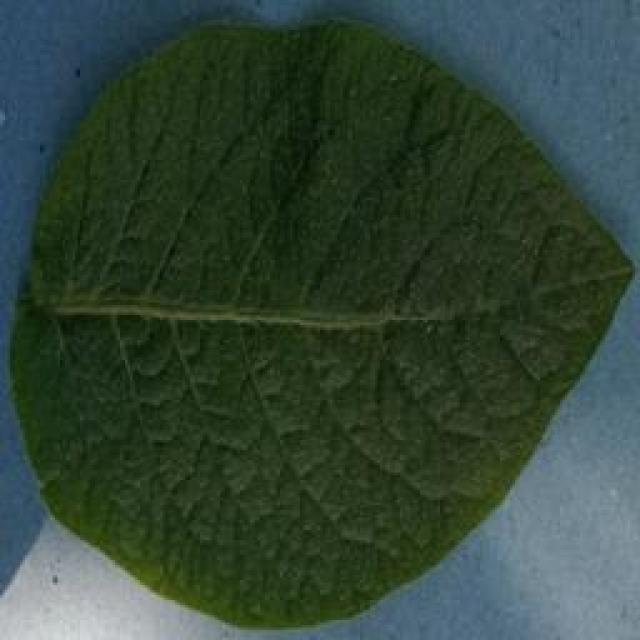Potato_Healthy: (12, 15, 630, 629)
